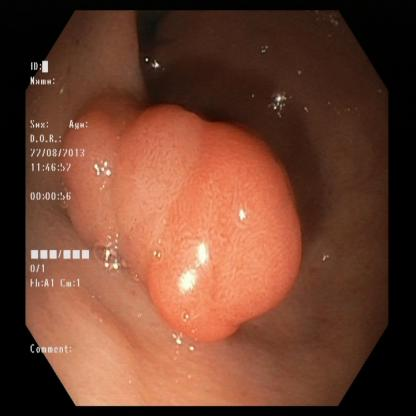Labels: (26, 57, 106, 358)
Polyps: (112, 113, 302, 323)
